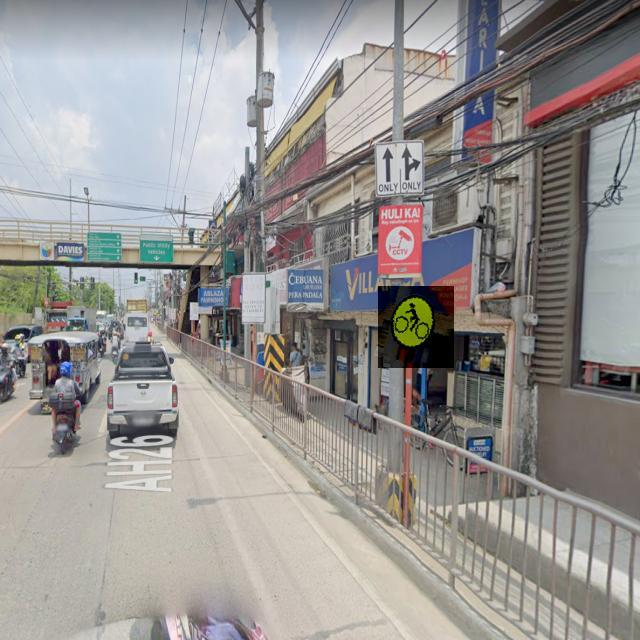bike lane: (378, 286, 454, 368)
